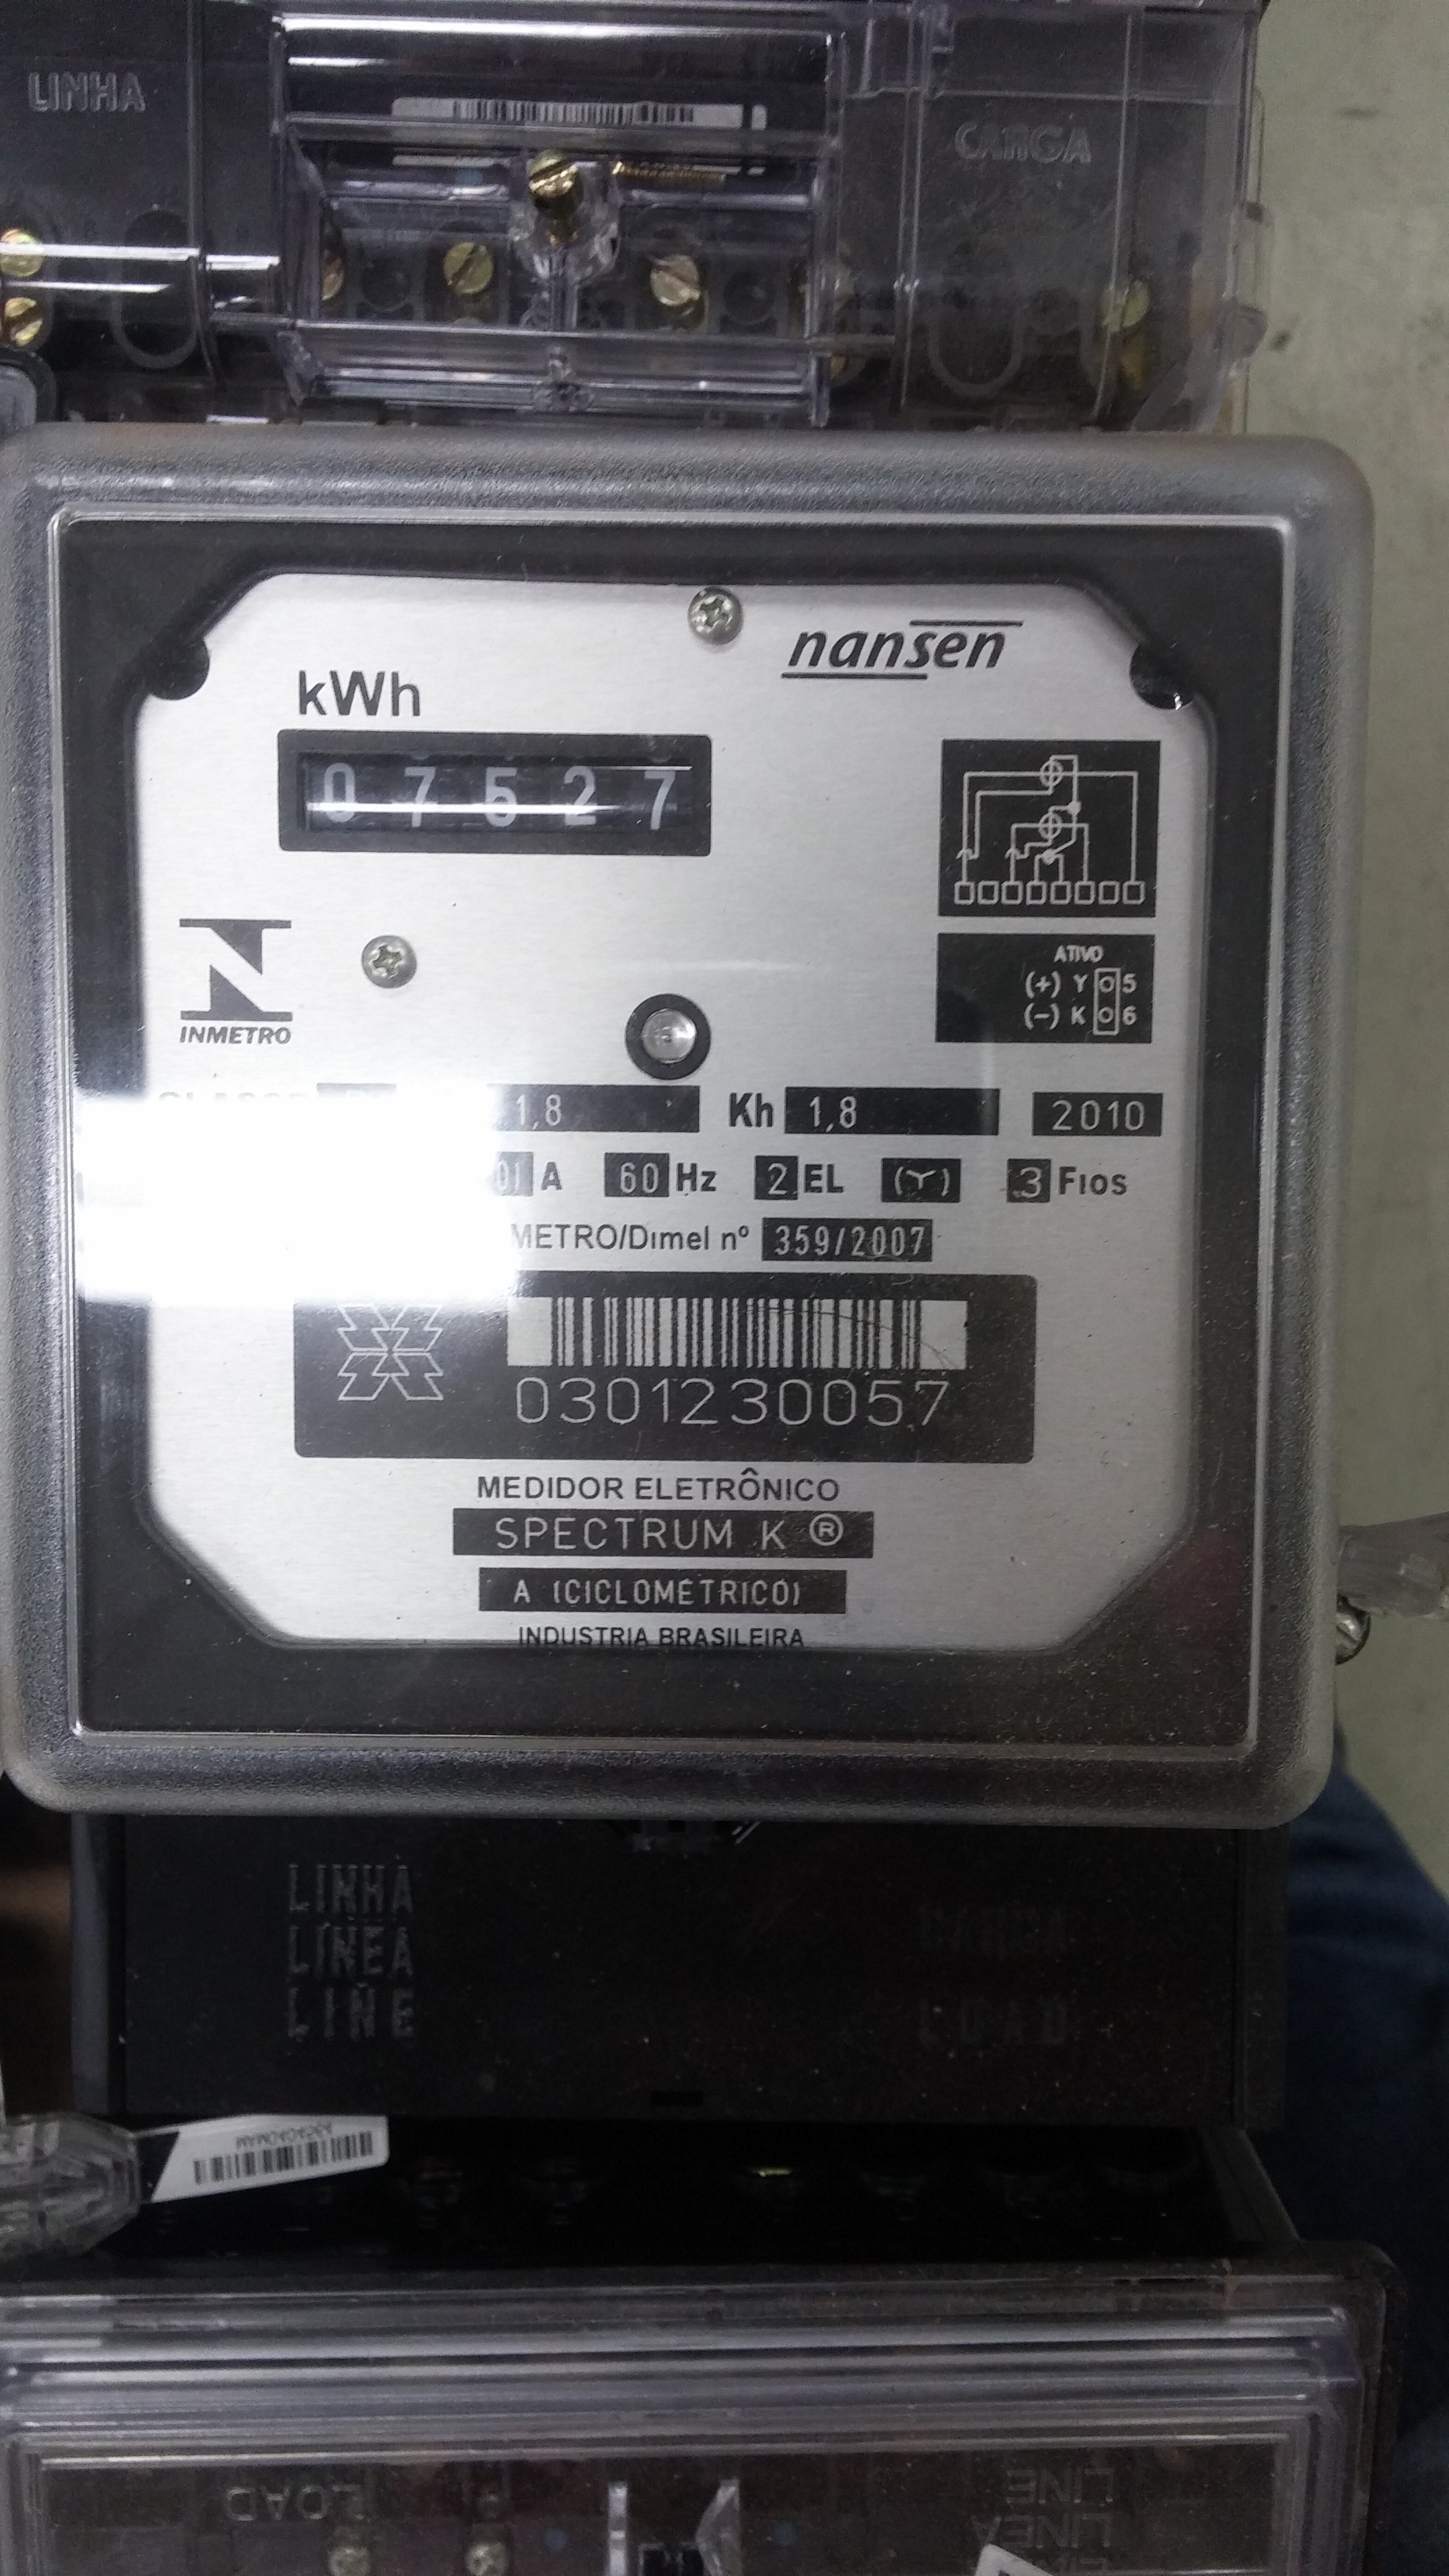counter3: (267, 715, 729, 870)
